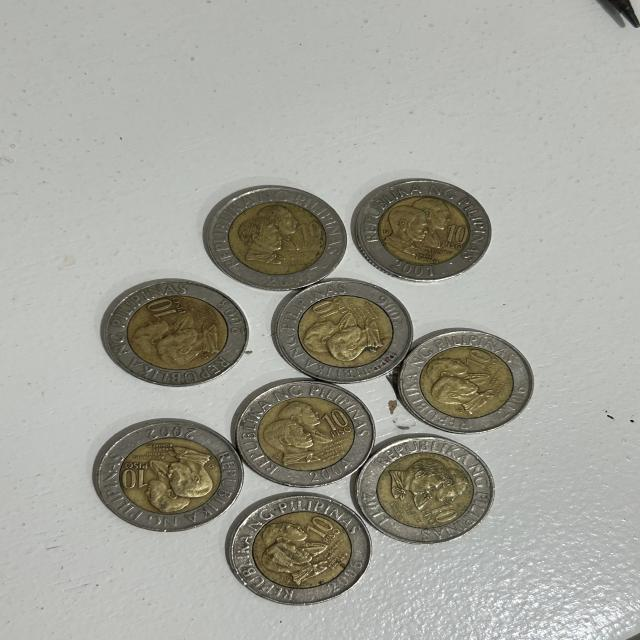10_Old_Front: (455, 344, 500, 375), (421, 501, 466, 531), (318, 404, 352, 440), (438, 225, 472, 258), (302, 514, 338, 543), (293, 218, 326, 249), (120, 460, 150, 493), (312, 299, 352, 323), (144, 299, 184, 321)
